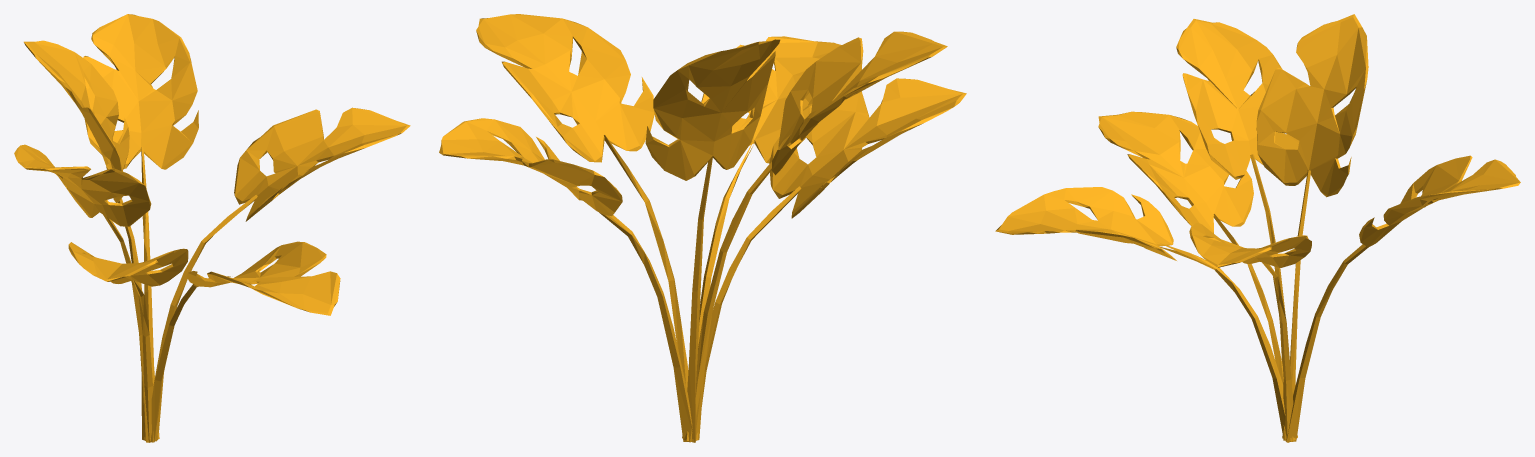
The model's file is ShrubPalmTropical01.fbx.
3 views of the same model, side by side, from view 1: azimuth 30°, elevation 25°; view 2: azimuth 150°, elevation 25°; view 3: azimuth 270°, elevation 25° (orthographic). The views are drawn at different scales.
Visible parts, largest first — view 1: ShrubPalmTropical01_LOD0; view 2: ShrubPalmTropical01_LOD0; view 3: ShrubPalmTropical01_LOD0.
Boxes of the visible parts, x1,y1,x2,y2 form: ShrubPalmTropical01_LOD0: [14, 14, 410, 442]; ShrubPalmTropical01_LOD0: [439, 14, 966, 442]; ShrubPalmTropical01_LOD0: [995, 14, 1520, 442].
Size of what is drawn, in the model's own units: 129 by 122 by 153.
